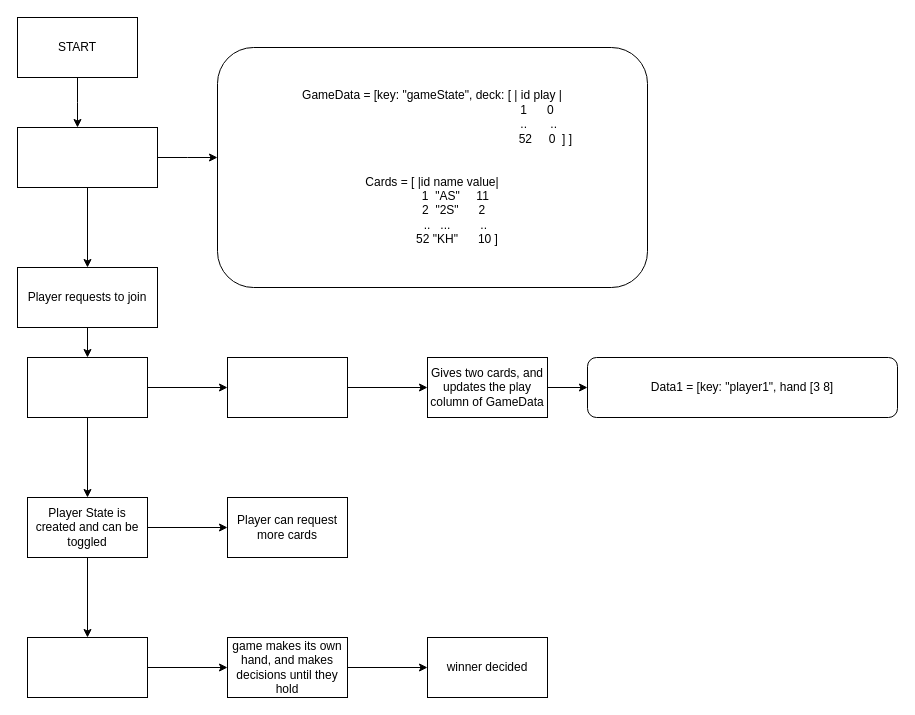
This 915x715 diagram has some shape labels left out. Here are the shapes that lost their labels. From the top down, the centre of each, then its label:
the point at 87,157: Game State is only state
the point at 87,387: Player is Given key
the point at 287,387: Game State makes hand
the point at 87,667: player can also hold
